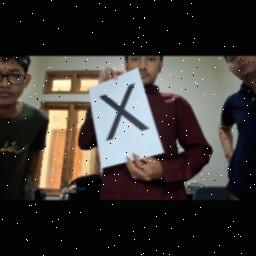x: (92, 81, 152, 143)
